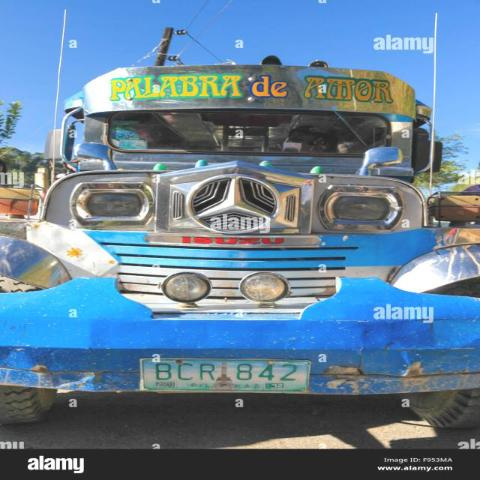jeepney: (1, 55, 480, 442)
